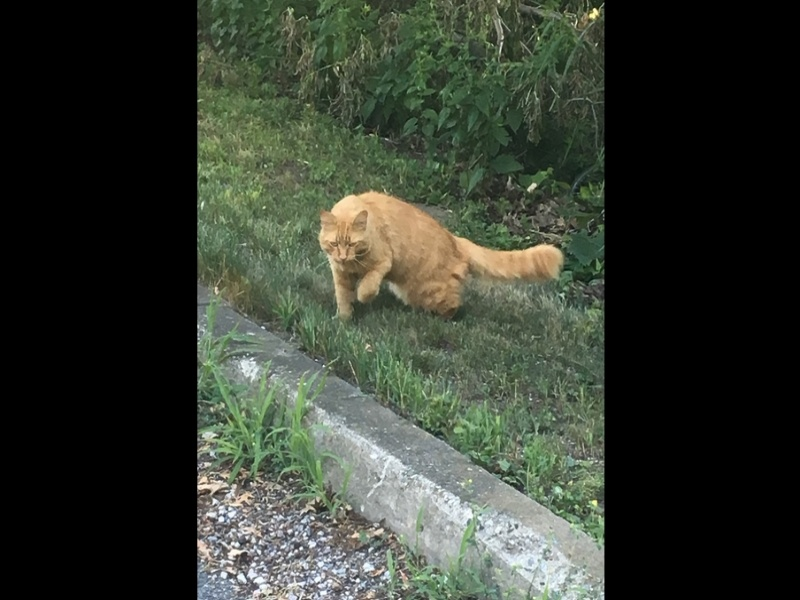cat: (312, 187, 564, 328)
